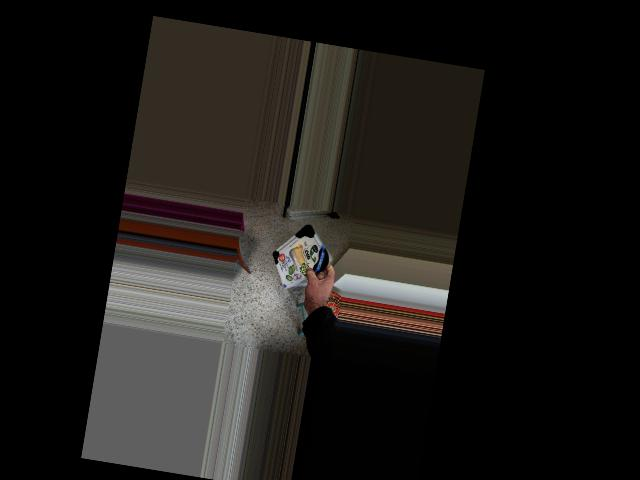cheese: (265, 227, 349, 287)
